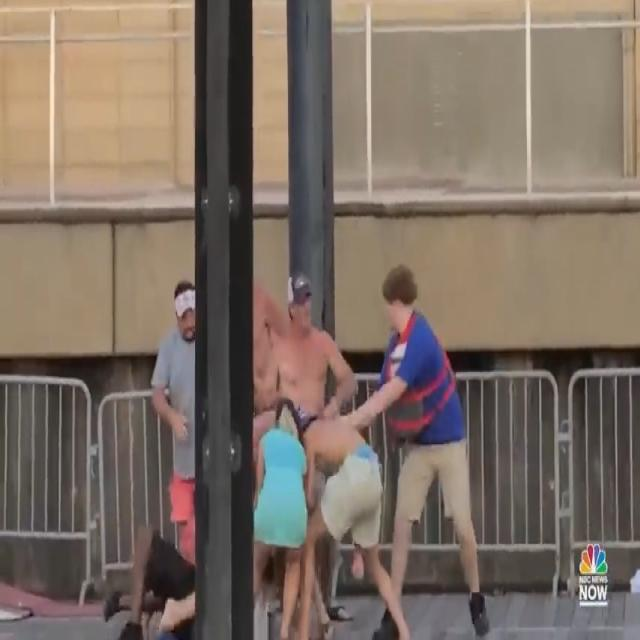fight: (97, 246, 412, 640)
